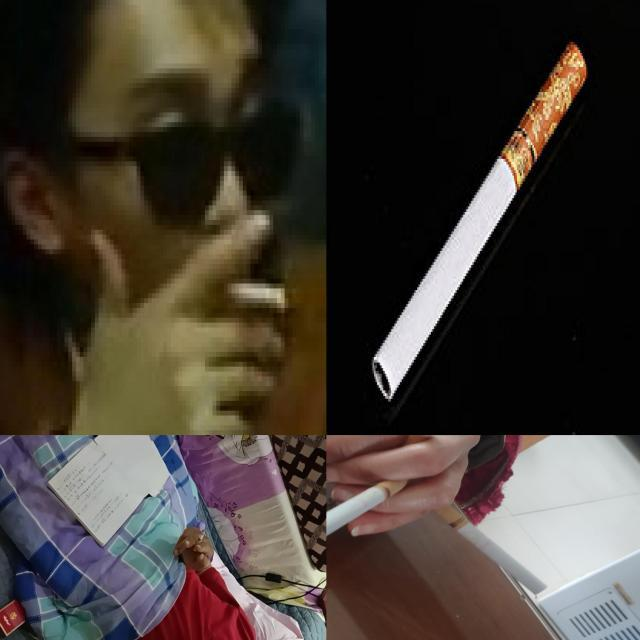cigarette: (370, 44, 590, 404), (428, 496, 550, 596), (326, 472, 412, 550), (215, 278, 288, 308), (193, 530, 205, 552)
